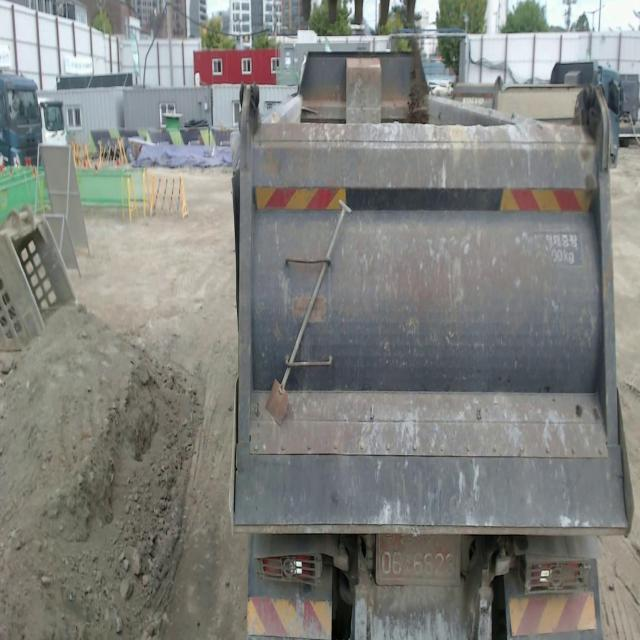white-sand: (0, 175, 247, 640), (598, 146, 640, 640)
